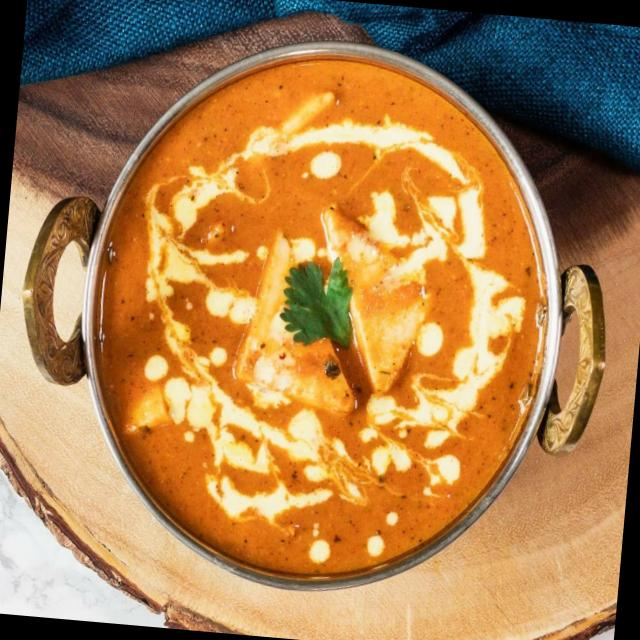ShahiPaneer: (76, 49, 566, 596)
